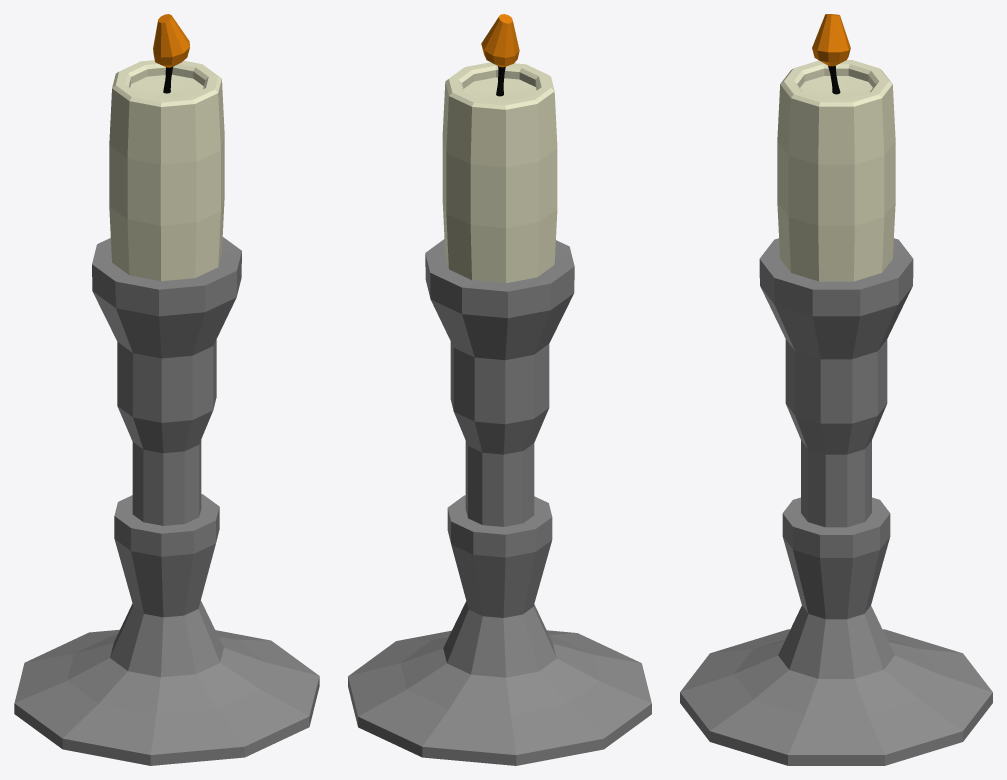
The model's file is velas2.fbx.
3 renders of one model, left to right at view 1: azimuth 30°, elevation 25°; view 2: azimuth 150°, elevation 25°; view 3: azimuth 270°, elevation 25°, orthographic.
Parts seen in each view (by area): view 1: Circle.005; view 2: Circle.005; view 3: Circle.005.
Boxes of the visible parts, x1=… form: Circle.005: x1=14, y1=14, x2=319, y2=765; Circle.005: x1=348, y1=14, x2=651, y2=765; Circle.005: x1=680, y1=14, x2=992, y2=765.
Bounding box in the file's own units: 95.56 × 244 × 100.
